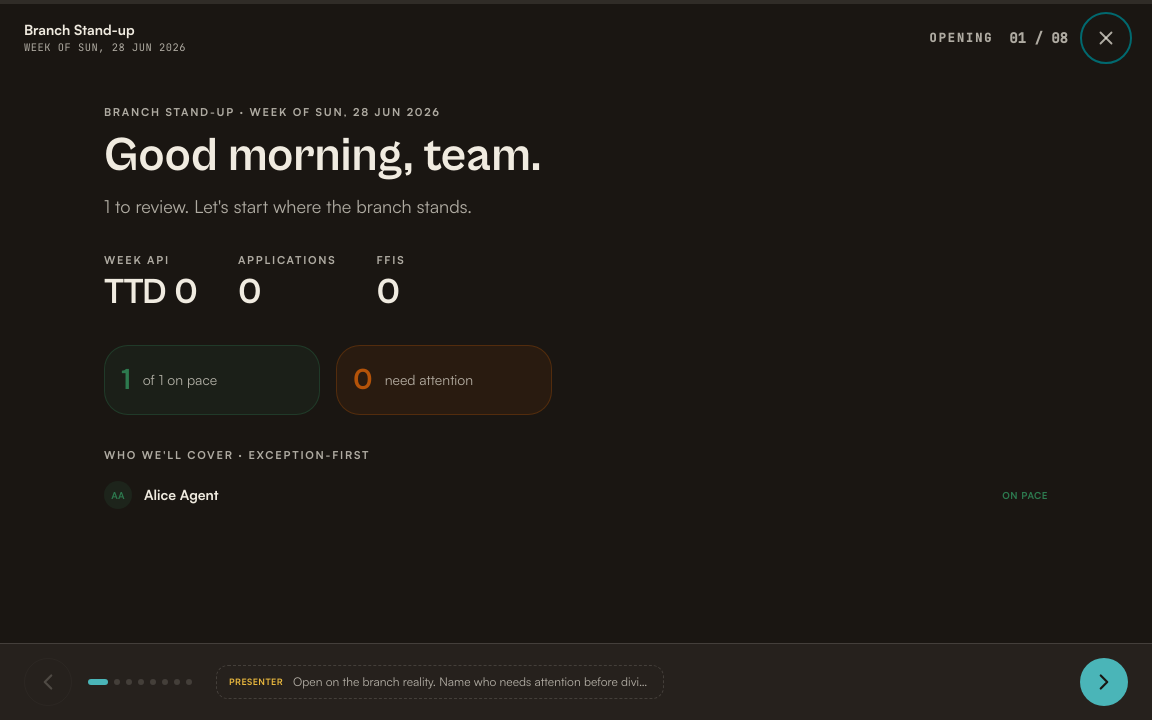
Test case: MeetingMode — run-of-show › agenda rail is shown on the agent scene and jumps when clicked
Expected: the heading "Good morning, team." is shown, [104,128,541,183]
Press Arrowright
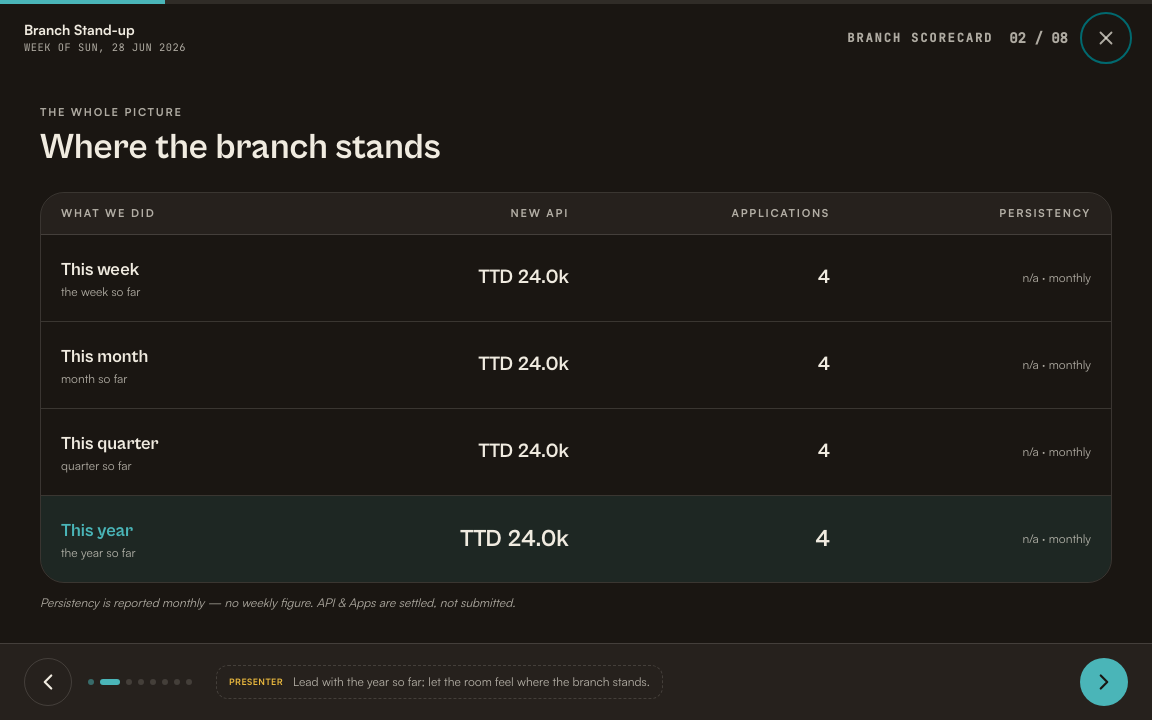
Press Arrowright
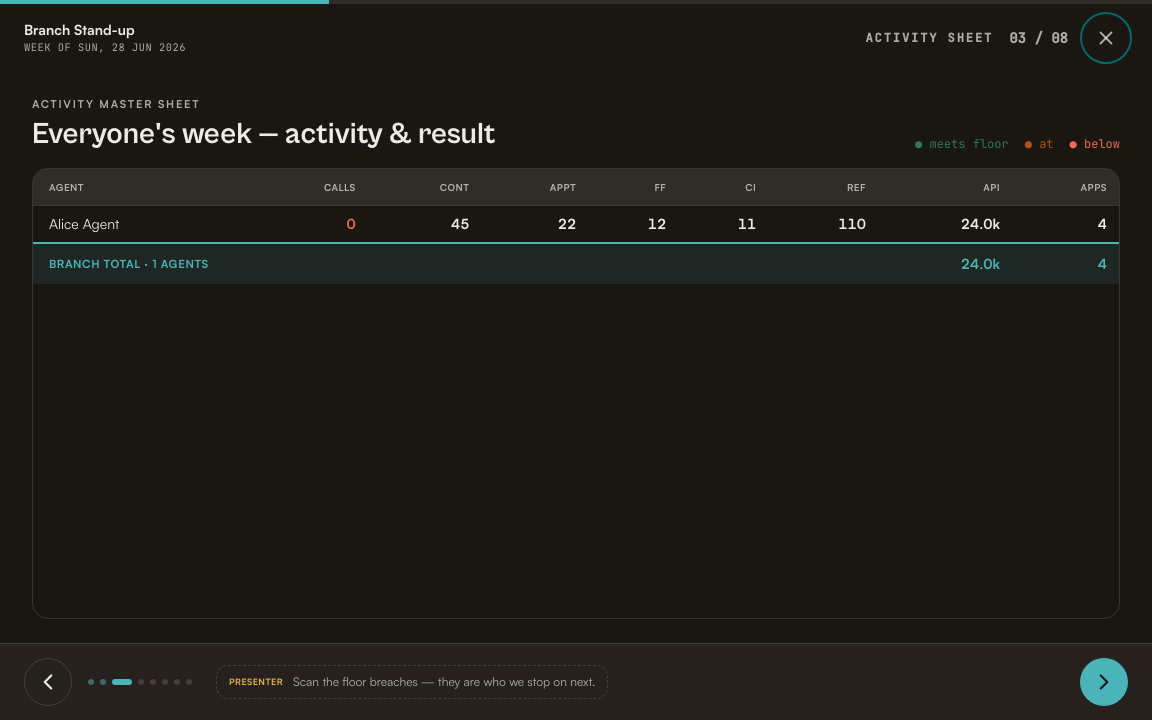
Press Arrowright
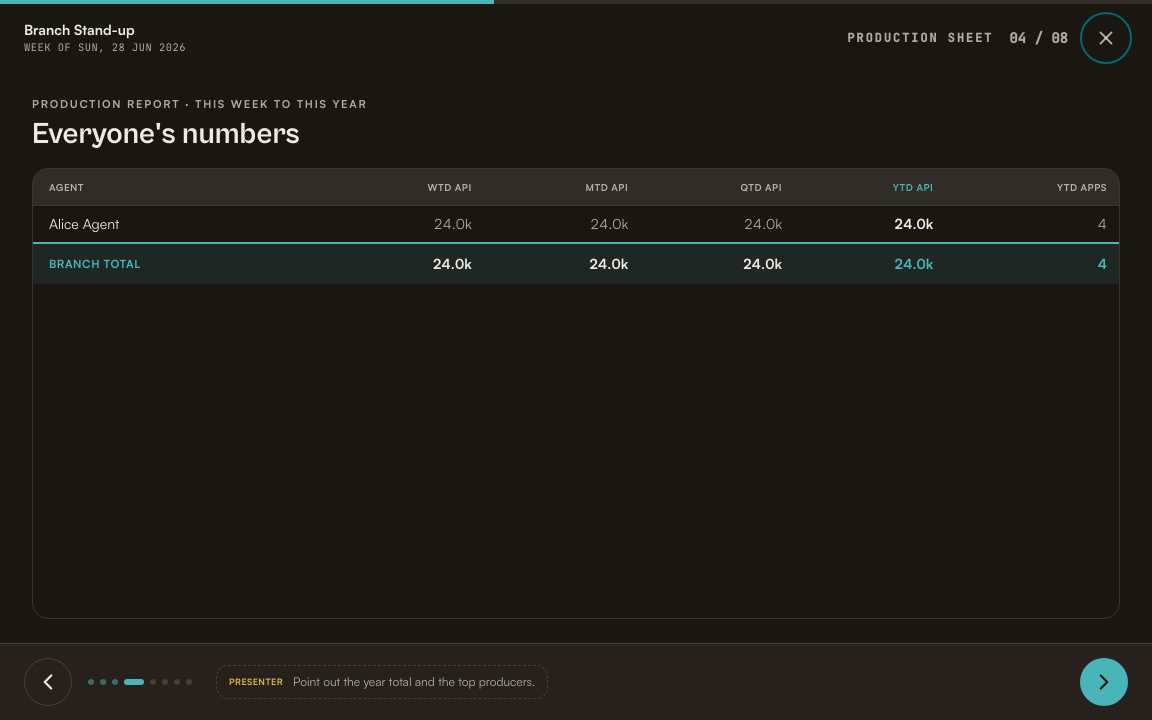
Press Arrowright
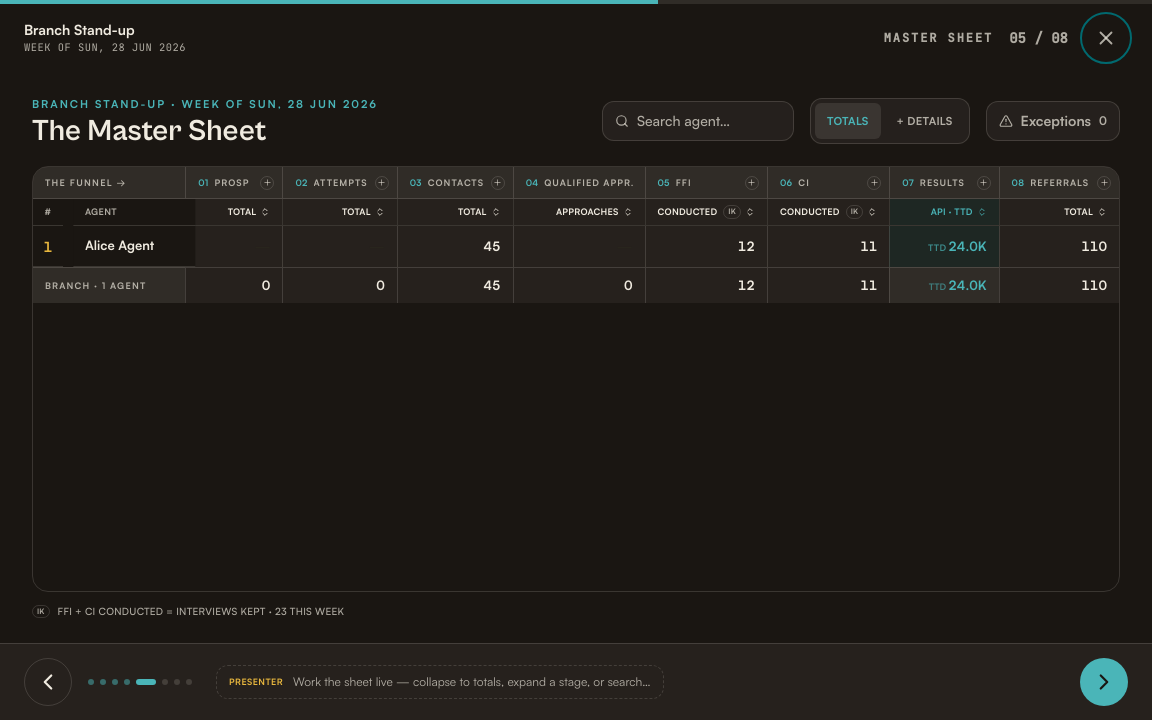
Press Arrowright
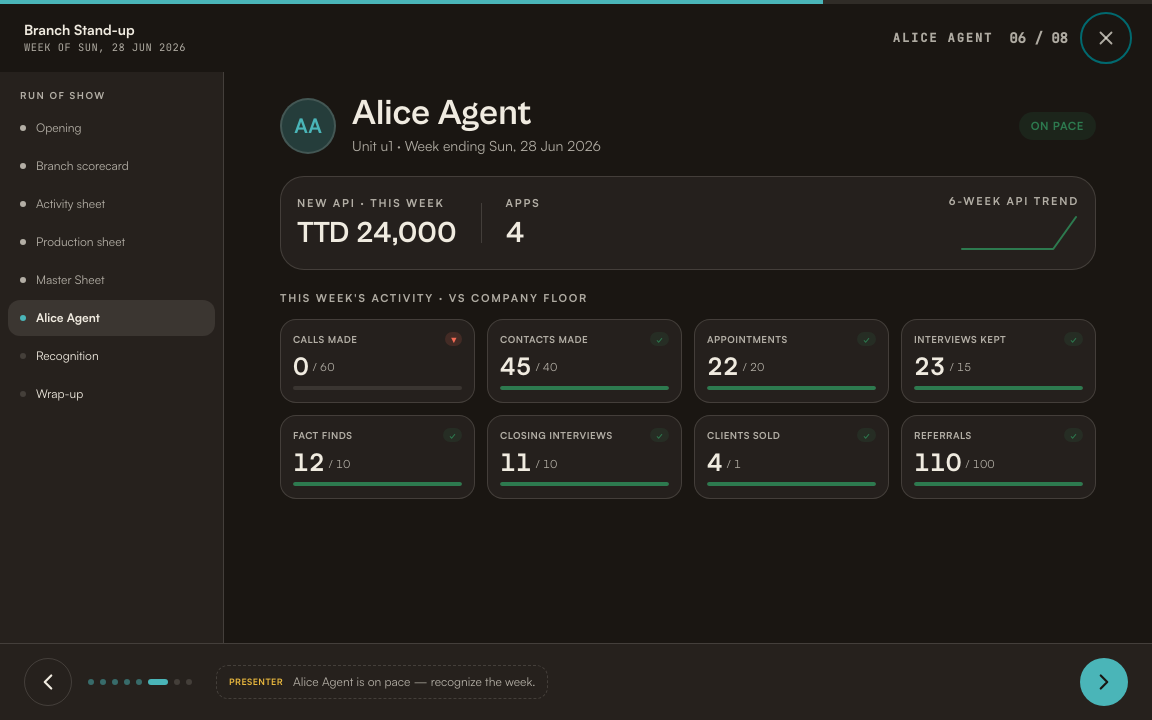
Expected: the text "This week's activity · vs company floor" is shown, [280,291,588,305]
Click the button "Branch scorecard" at (112, 166), box [8,148,215,184]
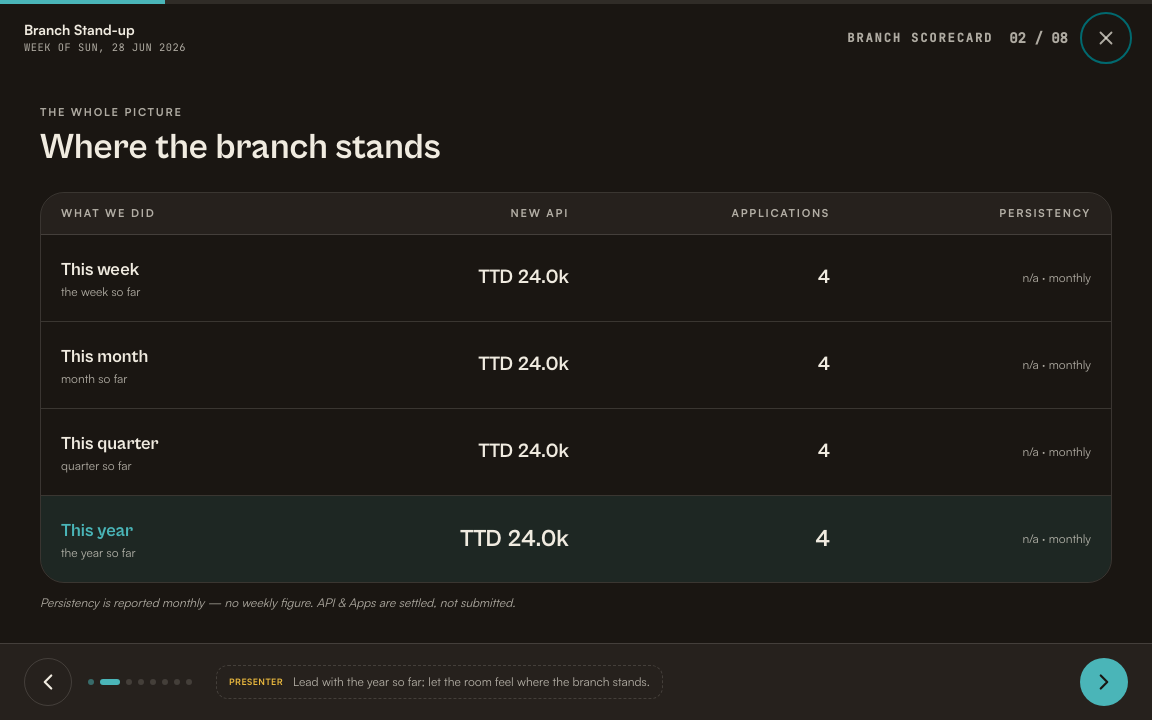
Expected: the heading "Where the branch stands" is shown, [40,127,441,168]
